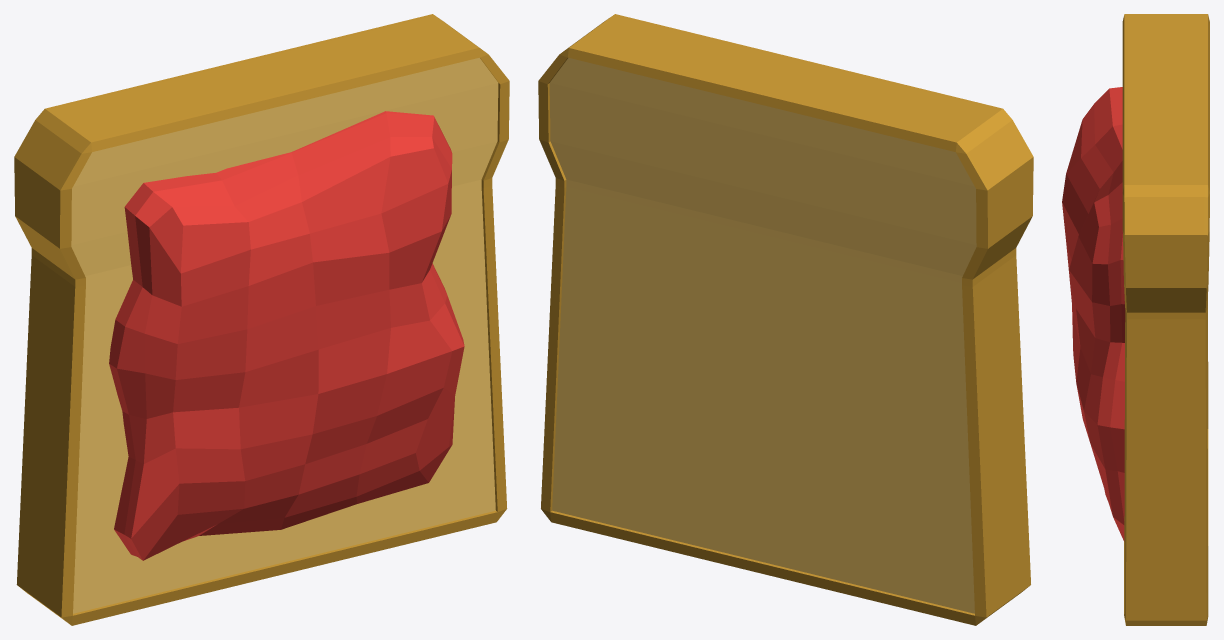
The model's file is Texturizado_Tostada_001.glb.
3 renders of one model, left to right at view 1: azimuth 30°, elevation 25°; view 2: azimuth 150°, elevation 25°; view 3: azimuth 270°, elevation 25°, orthographic. The views are drawn at different scales.
Visible parts, largest first — view 1: Pan_001, Mermelada_001; view 2: Pan_001; view 3: Pan_001, Mermelada_001.
Part boxes in pixels (box(x1,y1,x2,y2)): Pan_001: box(14, 14, 509, 625); Mermelada_001: box(109, 111, 464, 560); Pan_001: box(538, 14, 1033, 625); Pan_001: box(1122, 14, 1209, 625); Mermelada_001: box(1062, 87, 1125, 541).
Size of the model in its own units: 5.86 by 5.98 by 1.85.
